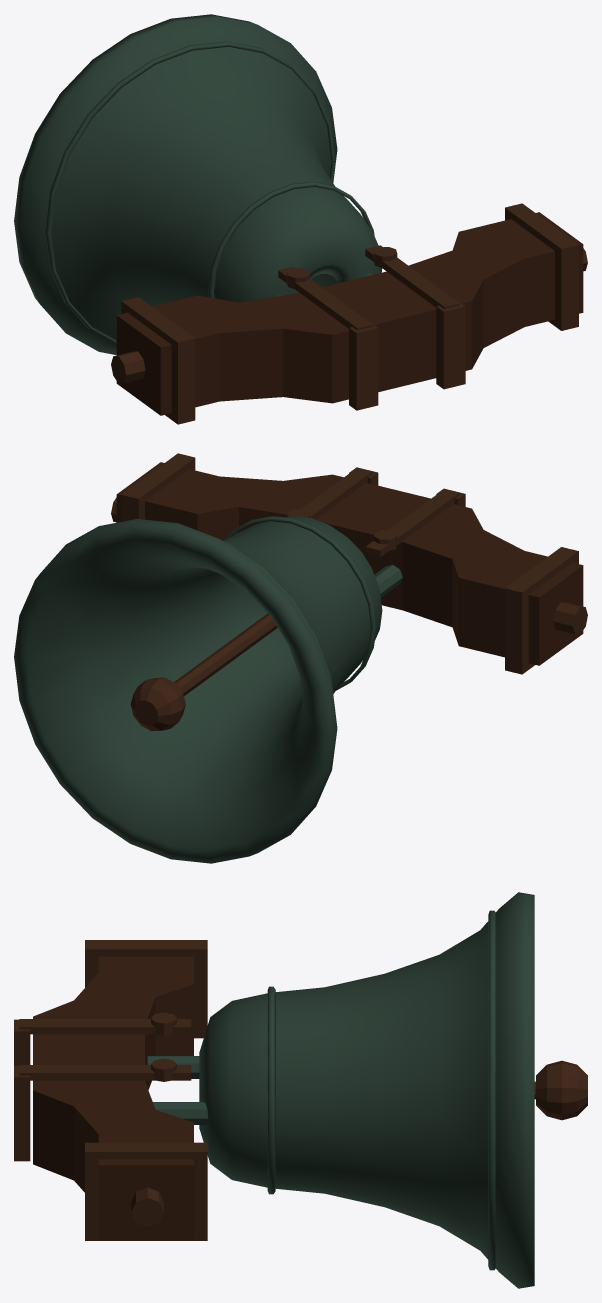
File: T10_Bell_and_Yoke.obj
3 renders of one model, top to bottom at view 1: azimuth 30°, elevation 25°; view 2: azimuth 150°, elevation 25°; view 3: azimuth 270°, elevation 25°, orthographic. The views are drawn at different scales.
Visible parts, largest first — view 1: T10_Bell_and_Yoke; view 2: T10_Bell_and_Yoke; view 3: T10_Bell_and_Yoke.
Boxes of the visible parts, box(x1,y1,x2,y2) form: T10_Bell_and_Yoke: box(14, 14, 587, 424); T10_Bell_and_Yoke: box(14, 453, 587, 863); T10_Bell_and_Yoke: box(14, 892, 587, 1288).
Bounding box in the file's own units: 2.12 × 1.46 × 2.11.
